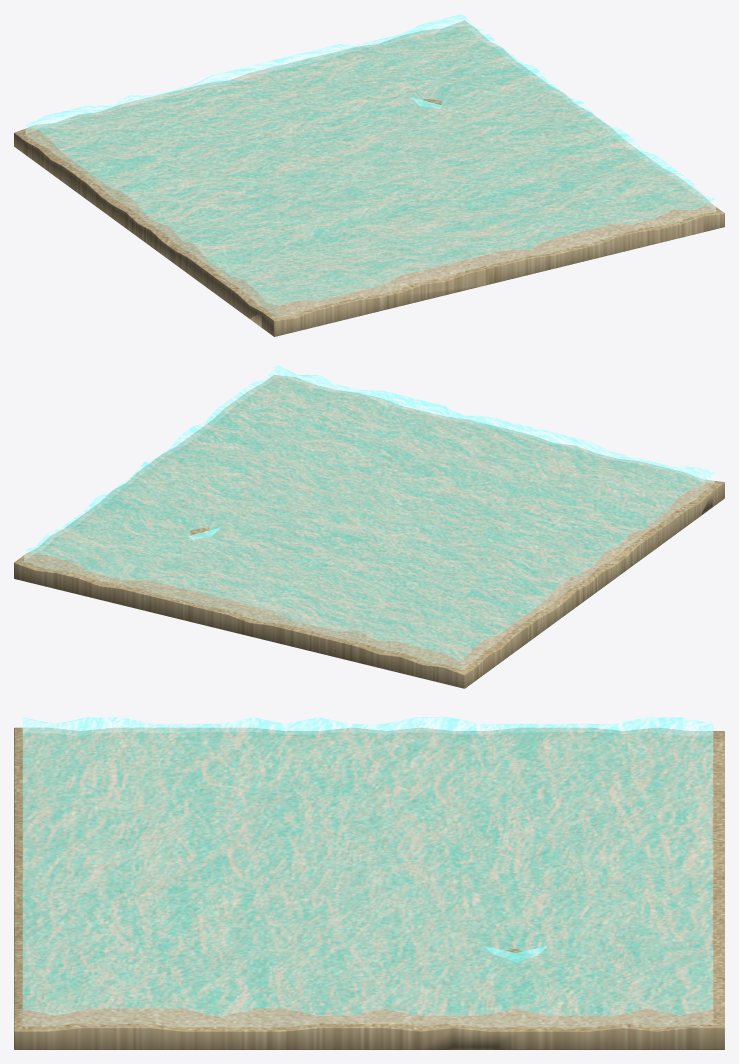
Rendered from water-rise-trans5.glb.
The picture shows the model from 3 angles, top to bottom: view 1: azimuth 30°, elevation 25°; view 2: azimuth 150°, elevation 25°; view 3: azimuth 270°, elevation 25°; orthographic projection. The views are drawn at different scales.
Parts seen in each view (by area): view 1: Sand, Plane.002_1, Plane.002_0; view 2: Sand, Plane.002_1, Plane.002_0; view 3: Sand, Plane.002_1, Plane.002_0.
Part boxes in pixels (left/top/right/bottom): Sand: left=14, top=20, right=724, bottom=336; Plane.002_1: left=26, top=14, right=715, bottom=305; Plane.002_0: left=25, top=21, right=715, bottom=316; Sand: left=14, top=375, right=724, bottom=688; Plane.002_1: left=25, top=365, right=714, bottom=661; Plane.002_0: left=24, top=387, right=714, bottom=669; Sand: left=14, top=727, right=724, bottom=1049; Plane.002_1: left=22, top=717, right=713, bottom=1016; Plane.002_0: left=22, top=717, right=713, bottom=1026.
Size of the model in its own units: 107 by 6.3 by 107.
3 materials, 2 textured.
